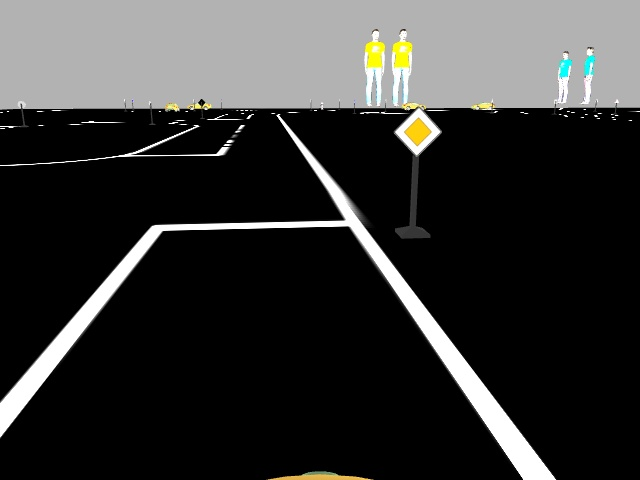Priority: (397, 107, 439, 154)
